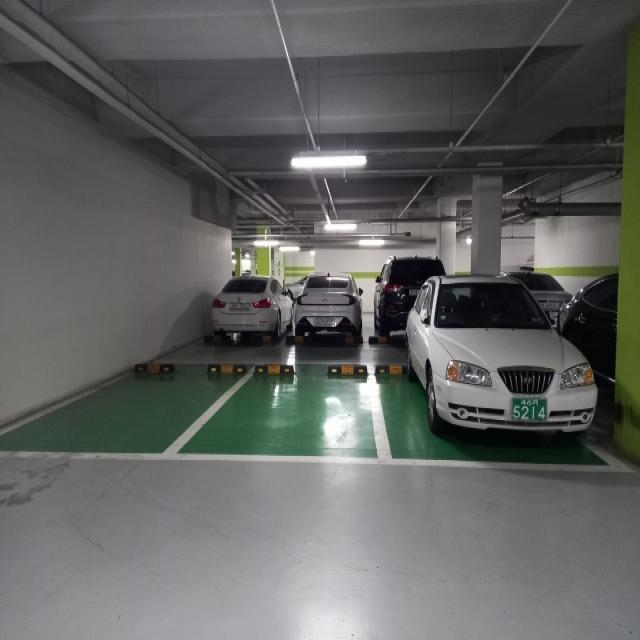Car: (392, 278, 602, 437)
Vacant: (62, 359, 228, 450), (224, 361, 391, 450)
